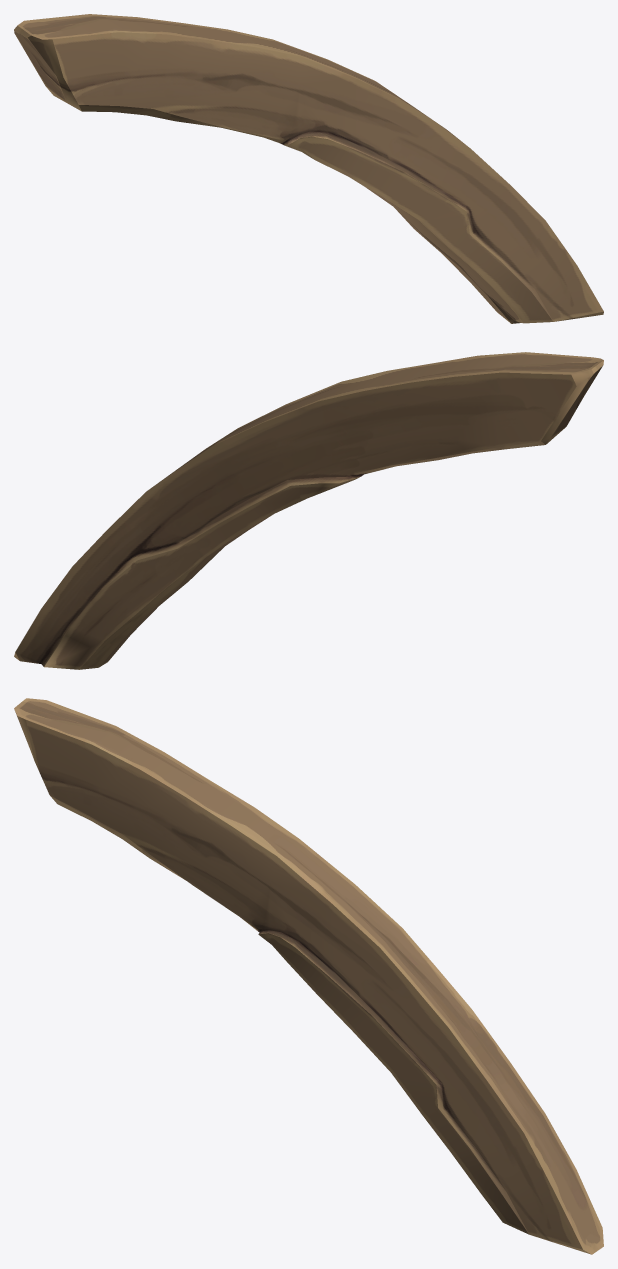
The model's file is balk_round_corner.fbx.
3 views of the same model, one above another, from view 1: azimuth 30°, elevation 25°; view 2: azimuth 150°, elevation 25°; view 3: azimuth 330°, elevation 25° (orthographic). The views are drawn at different scales.
Visible parts, largest first — view 1: joint_top_low.006; view 2: joint_top_low.006; view 3: joint_top_low.006.
Part boxes in pixels (x1,y1,x2,y2): joint_top_low.006: [14, 14, 603, 323]; joint_top_low.006: [14, 352, 603, 669]; joint_top_low.006: [14, 698, 603, 1254].
Size of the model in its own units: 1.24 by 0.8698 by 0.1491.
